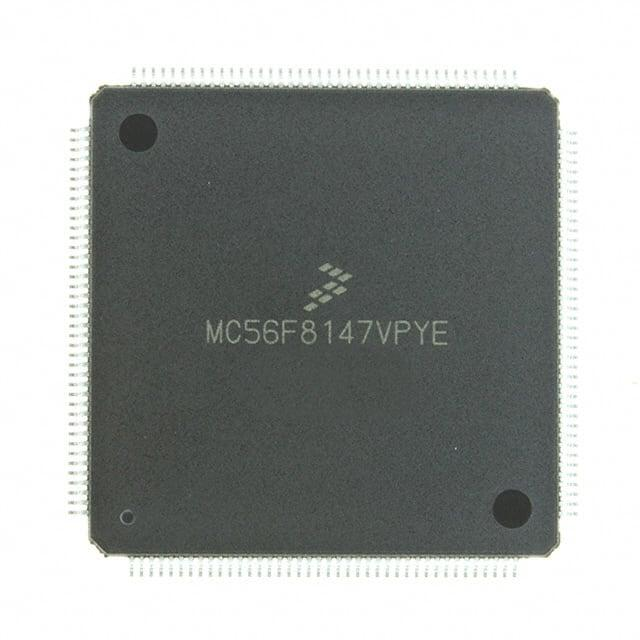IC: (55, 61, 592, 590)
